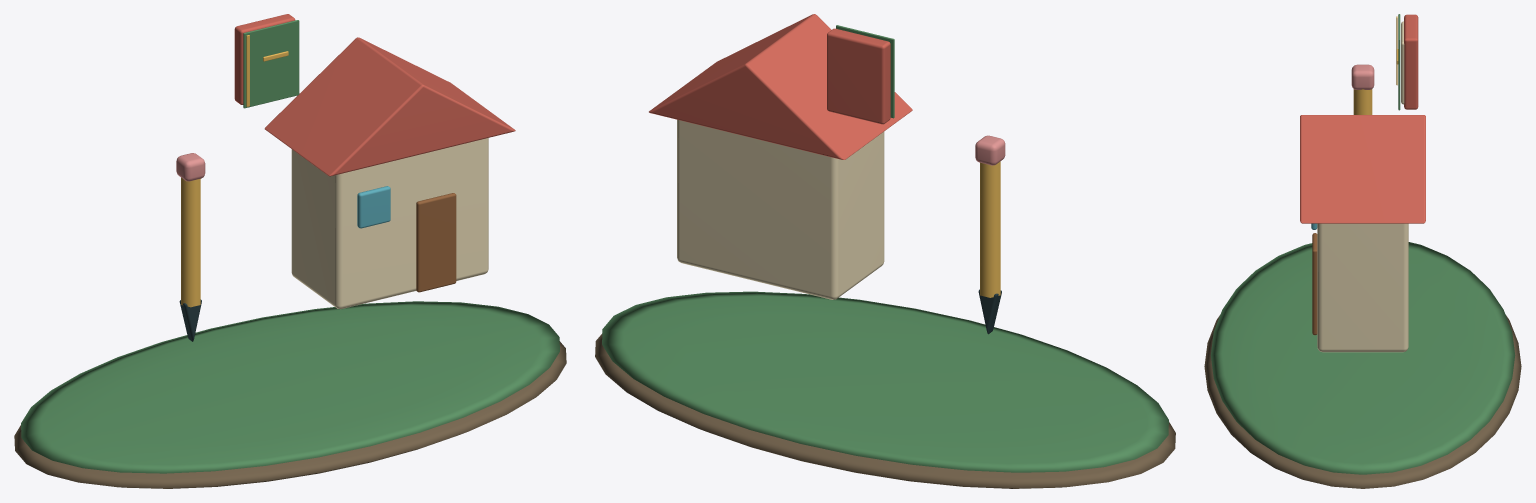
Rendered from complete-third-making-home-writing.glb.
The picture shows the model from 3 angles, left to right: view 1: azimuth 30°, elevation 25°; view 2: azimuth 150°, elevation 25°; view 3: azimuth 270°, elevation 25°; orthographic projection. The views are drawn at different scales.
Parts seen in each view (by area): view 1: complete-third-making-home-writing_surface_01, complete-third-making-home-writing_surface_05, complete-third-making-home-writing_surface_06, complete-third-making-home-writing_surface_00, complete-third-making-home-writing_surface_07, complete-third-making-home-writing_surface_02, complete-third-making-home-writing_surface_08, complete-third-making-home-writing_surface_04; view 2: complete-third-making-home-writing_surface_01, complete-third-making-home-writing_surface_05, complete-third-making-home-writing_surface_06, complete-third-making-home-writing_surface_00, complete-third-making-home-writing_surface_02, complete-third-making-home-writing_surface_04; view 3: complete-third-making-home-writing_surface_01, complete-third-making-home-writing_surface_06, complete-third-making-home-writing_surface_05, complete-third-making-home-writing_surface_00, complete-third-making-home-writing_surface_02, complete-third-making-home-writing_surface_07, complete-third-making-home-writing_surface_04.
Part boxes in pixels (x1=…): complete-third-making-home-writing_surface_01: x1=21, y1=20, x2=559, y2=473; complete-third-making-home-writing_surface_05: x1=291, y1=138, x2=488, y2=309; complete-third-making-home-writing_surface_06: x1=234, y1=14, x2=515, y2=176; complete-third-making-home-writing_surface_00: x1=14, y1=341, x2=566, y2=488; complete-third-making-home-writing_surface_07: x1=416, y1=193, x2=456, y2=292; complete-third-making-home-writing_surface_02: x1=181, y1=35, x2=288, y2=307; complete-third-making-home-writing_surface_08: x1=357, y1=186, x2=390, y2=228; complete-third-making-home-writing_surface_04: x1=176, y1=153, x2=205, y2=181; complete-third-making-home-writing_surface_01: x1=602, y1=25, x2=1168, y2=472; complete-third-making-home-writing_surface_05: x1=677, y1=119, x2=884, y2=299; complete-third-making-home-writing_surface_06: x1=649, y1=14, x2=912, y2=159; complete-third-making-home-writing_surface_00: x1=595, y1=333, x2=1175, y2=488; complete-third-making-home-writing_surface_02: x1=980, y1=161, x2=1000, y2=297; complete-third-making-home-writing_surface_04: x1=975, y1=135, x2=1005, y2=165; complete-third-making-home-writing_surface_01: x1=1210, y1=14, x2=1515, y2=474; complete-third-making-home-writing_surface_06: x1=1300, y1=14, x2=1425, y2=223; complete-third-making-home-writing_surface_05: x1=1317, y1=21, x2=1408, y2=352; complete-third-making-home-writing_surface_00: x1=1204, y1=315, x2=1521, y2=488; complete-third-making-home-writing_surface_02: x1=1353, y1=16, x2=1398, y2=114; complete-third-making-home-writing_surface_07: x1=1312, y1=233, x2=1317, y2=335; complete-third-making-home-writing_surface_04: x1=1351, y1=64, x2=1374, y2=89.
Bounding box in the file's own units: 4.56 × 3.09 × 2.5.
